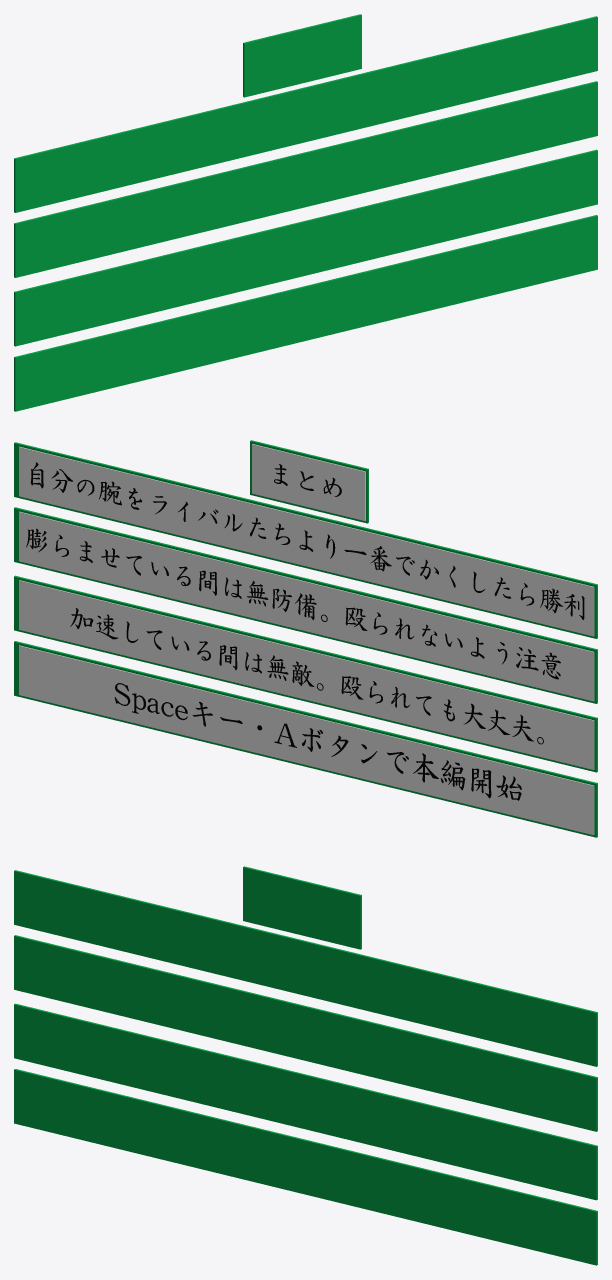
3 views of the same model, one above another, from view 1: azimuth 30°, elevation 25°; view 2: azimuth 150°, elevation 25°; view 3: azimuth 330°, elevation 25° (orthographic).
Visible parts, largest first — view 1: 立方体.007; view 2: 立方体.009, 立方体.007, テキスト.005; view 3: 立方体.007.
Part boxes in pixels (x1,y1,x2,y2): 立方体.007: (14,14,597,411); 立方体.009: (19,444,594,835); 立方体.007: (14,440,597,837); テキスト.005: (26,462,584,800); 立方体.007: (14,866,597,1265).
Bounding box in the file's own units: 22.66 × 11.6 × 0.1378.
15 materials, 15 textured.
